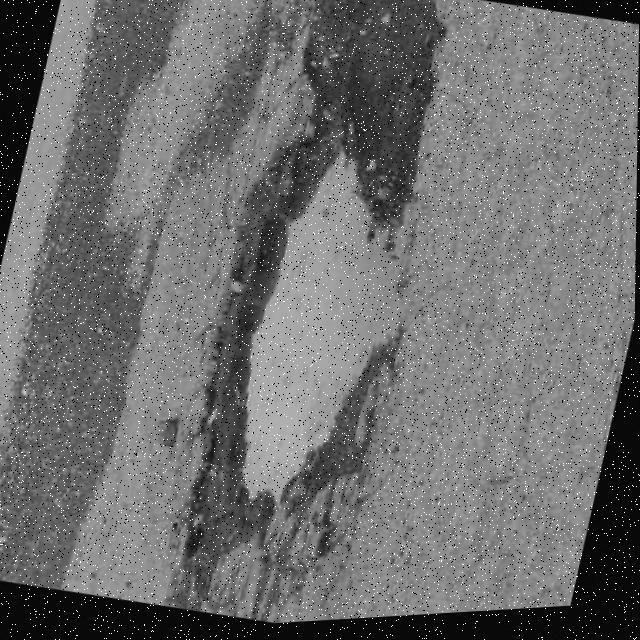pothole: (165, 115, 452, 597), (263, 0, 459, 237)
